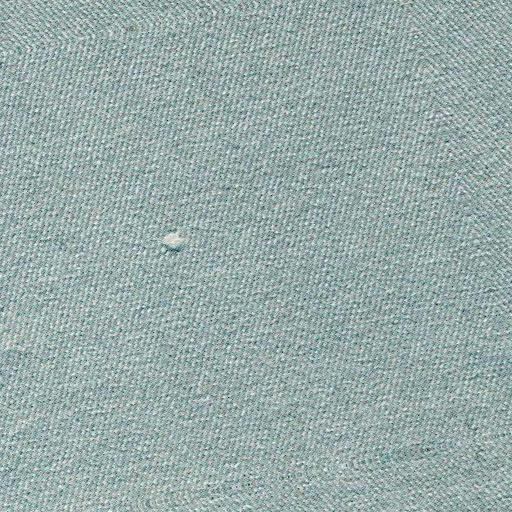knot: (148, 227, 201, 262)
